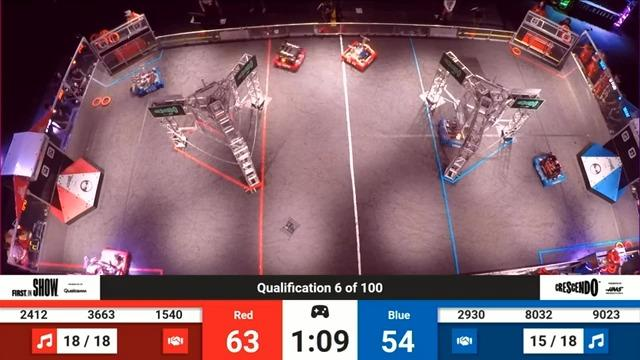robot: (266, 30, 312, 78), (78, 246, 141, 278), (528, 147, 567, 193), (125, 62, 168, 102), (437, 104, 473, 148), (339, 38, 375, 76)
